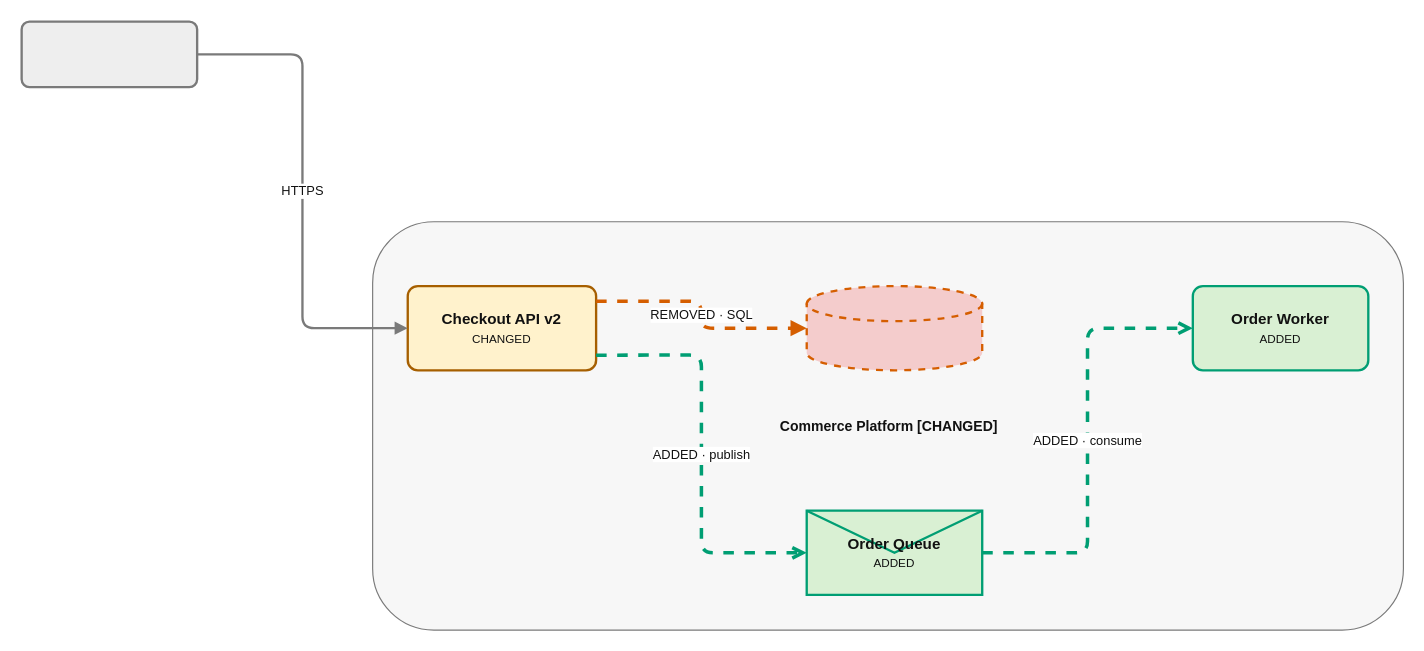
Some shapes in this 1424 by 651 pixel diagram are drawn without their labels. The shapes that lost their labels are listed below. From the top down, each one's centre as x and y in pixels, then its label:
point (109, 54): Client
point (894, 327): Orders DB REMOVED
